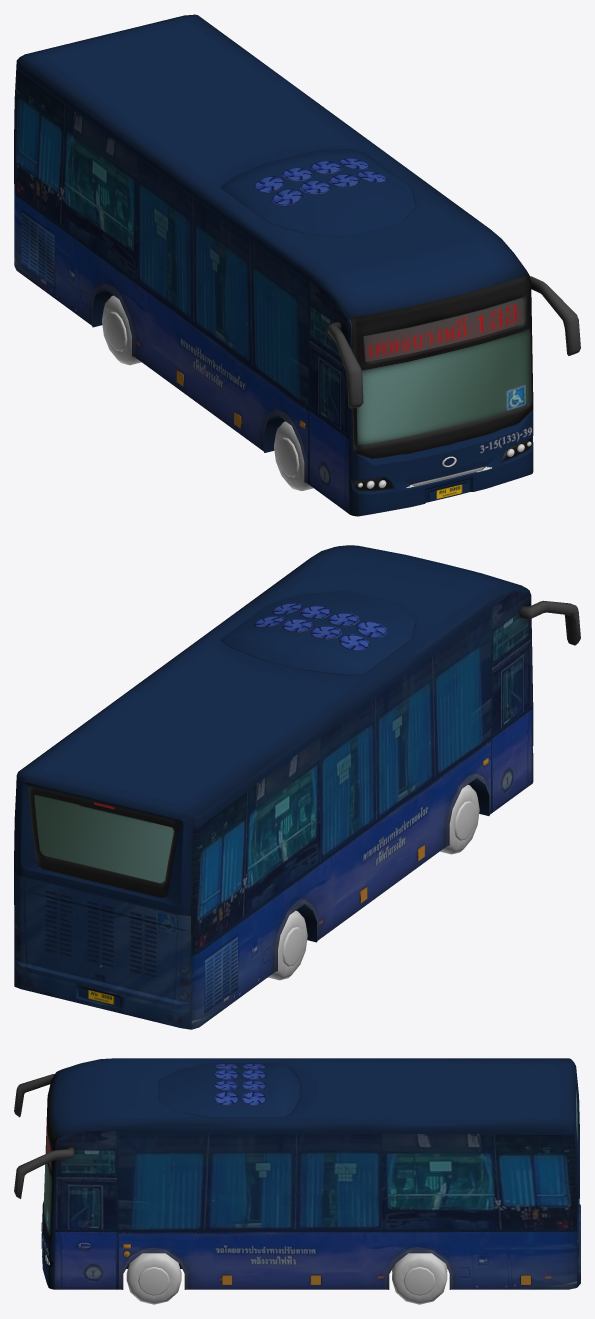
Rendered from busModel.fbx.
3 views of the same model, one above another, from view 1: azimuth 30°, elevation 25°; view 2: azimuth 150°, elevation 25°; view 3: azimuth 270°, elevation 25° (orthographic). The views are drawn at different scales.
Visible parts, largest first — view 1: kozak_body1, kozak_wheel_front_left1, kozak_wheel_rear_left1; view 2: kozak_body1, kozak_wheel_front_left1, kozak_wheel_rear_left1; view 3: kozak_body1, kozak_wheel_rear_left, kozak_wheel_front_left.
Boxes of the visible parts, x1=… form: kozak_body1: x1=14, y1=14, x2=580, y2=516; kozak_wheel_front_left1: x1=274, y1=421, x2=313, y2=490; kozak_wheel_rear_left1: x1=102, y1=295, x2=141, y2=365; kozak_body1: x1=14, y1=545, x2=580, y2=1029; kozak_wheel_front_left1: x1=440, y1=785, x2=479, y2=854; kozak_wheel_rear_left1: x1=268, y1=910, x2=307, y2=980; kozak_body1: x1=14, y1=1058, x2=580, y2=1289; kozak_wheel_rear_left: x1=392, y1=1253, x2=447, y2=1304; kozak_wheel_front_left: x1=126, y1=1253, x2=181, y2=1304.
Bounding box in the file's own units: 310 × 320 × 852.
